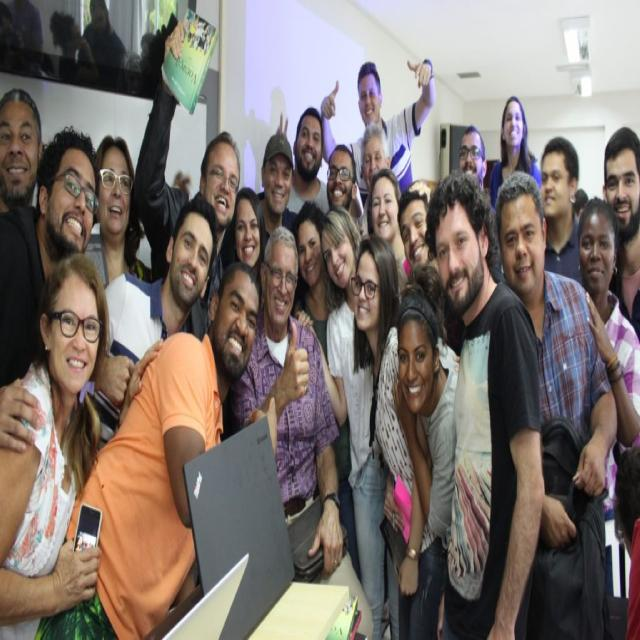body: (32, 260, 278, 640), (226, 224, 375, 640), (494, 165, 618, 640), (422, 165, 546, 639), (294, 203, 399, 640), (0, 250, 111, 639), (351, 232, 446, 639), (77, 193, 222, 455), (131, 12, 243, 339), (0, 122, 102, 459), (390, 261, 461, 639), (290, 200, 358, 578), (576, 196, 640, 512), (319, 54, 437, 207), (0, 0, 178, 95), (327, 126, 430, 268), (252, 128, 310, 319), (600, 123, 640, 343), (92, 124, 140, 300), (540, 133, 586, 286), (272, 107, 332, 220), (488, 94, 541, 220), (216, 186, 269, 309), (612, 440, 639, 636), (0, 98, 44, 206), (452, 119, 487, 194), (574, 183, 591, 217)
